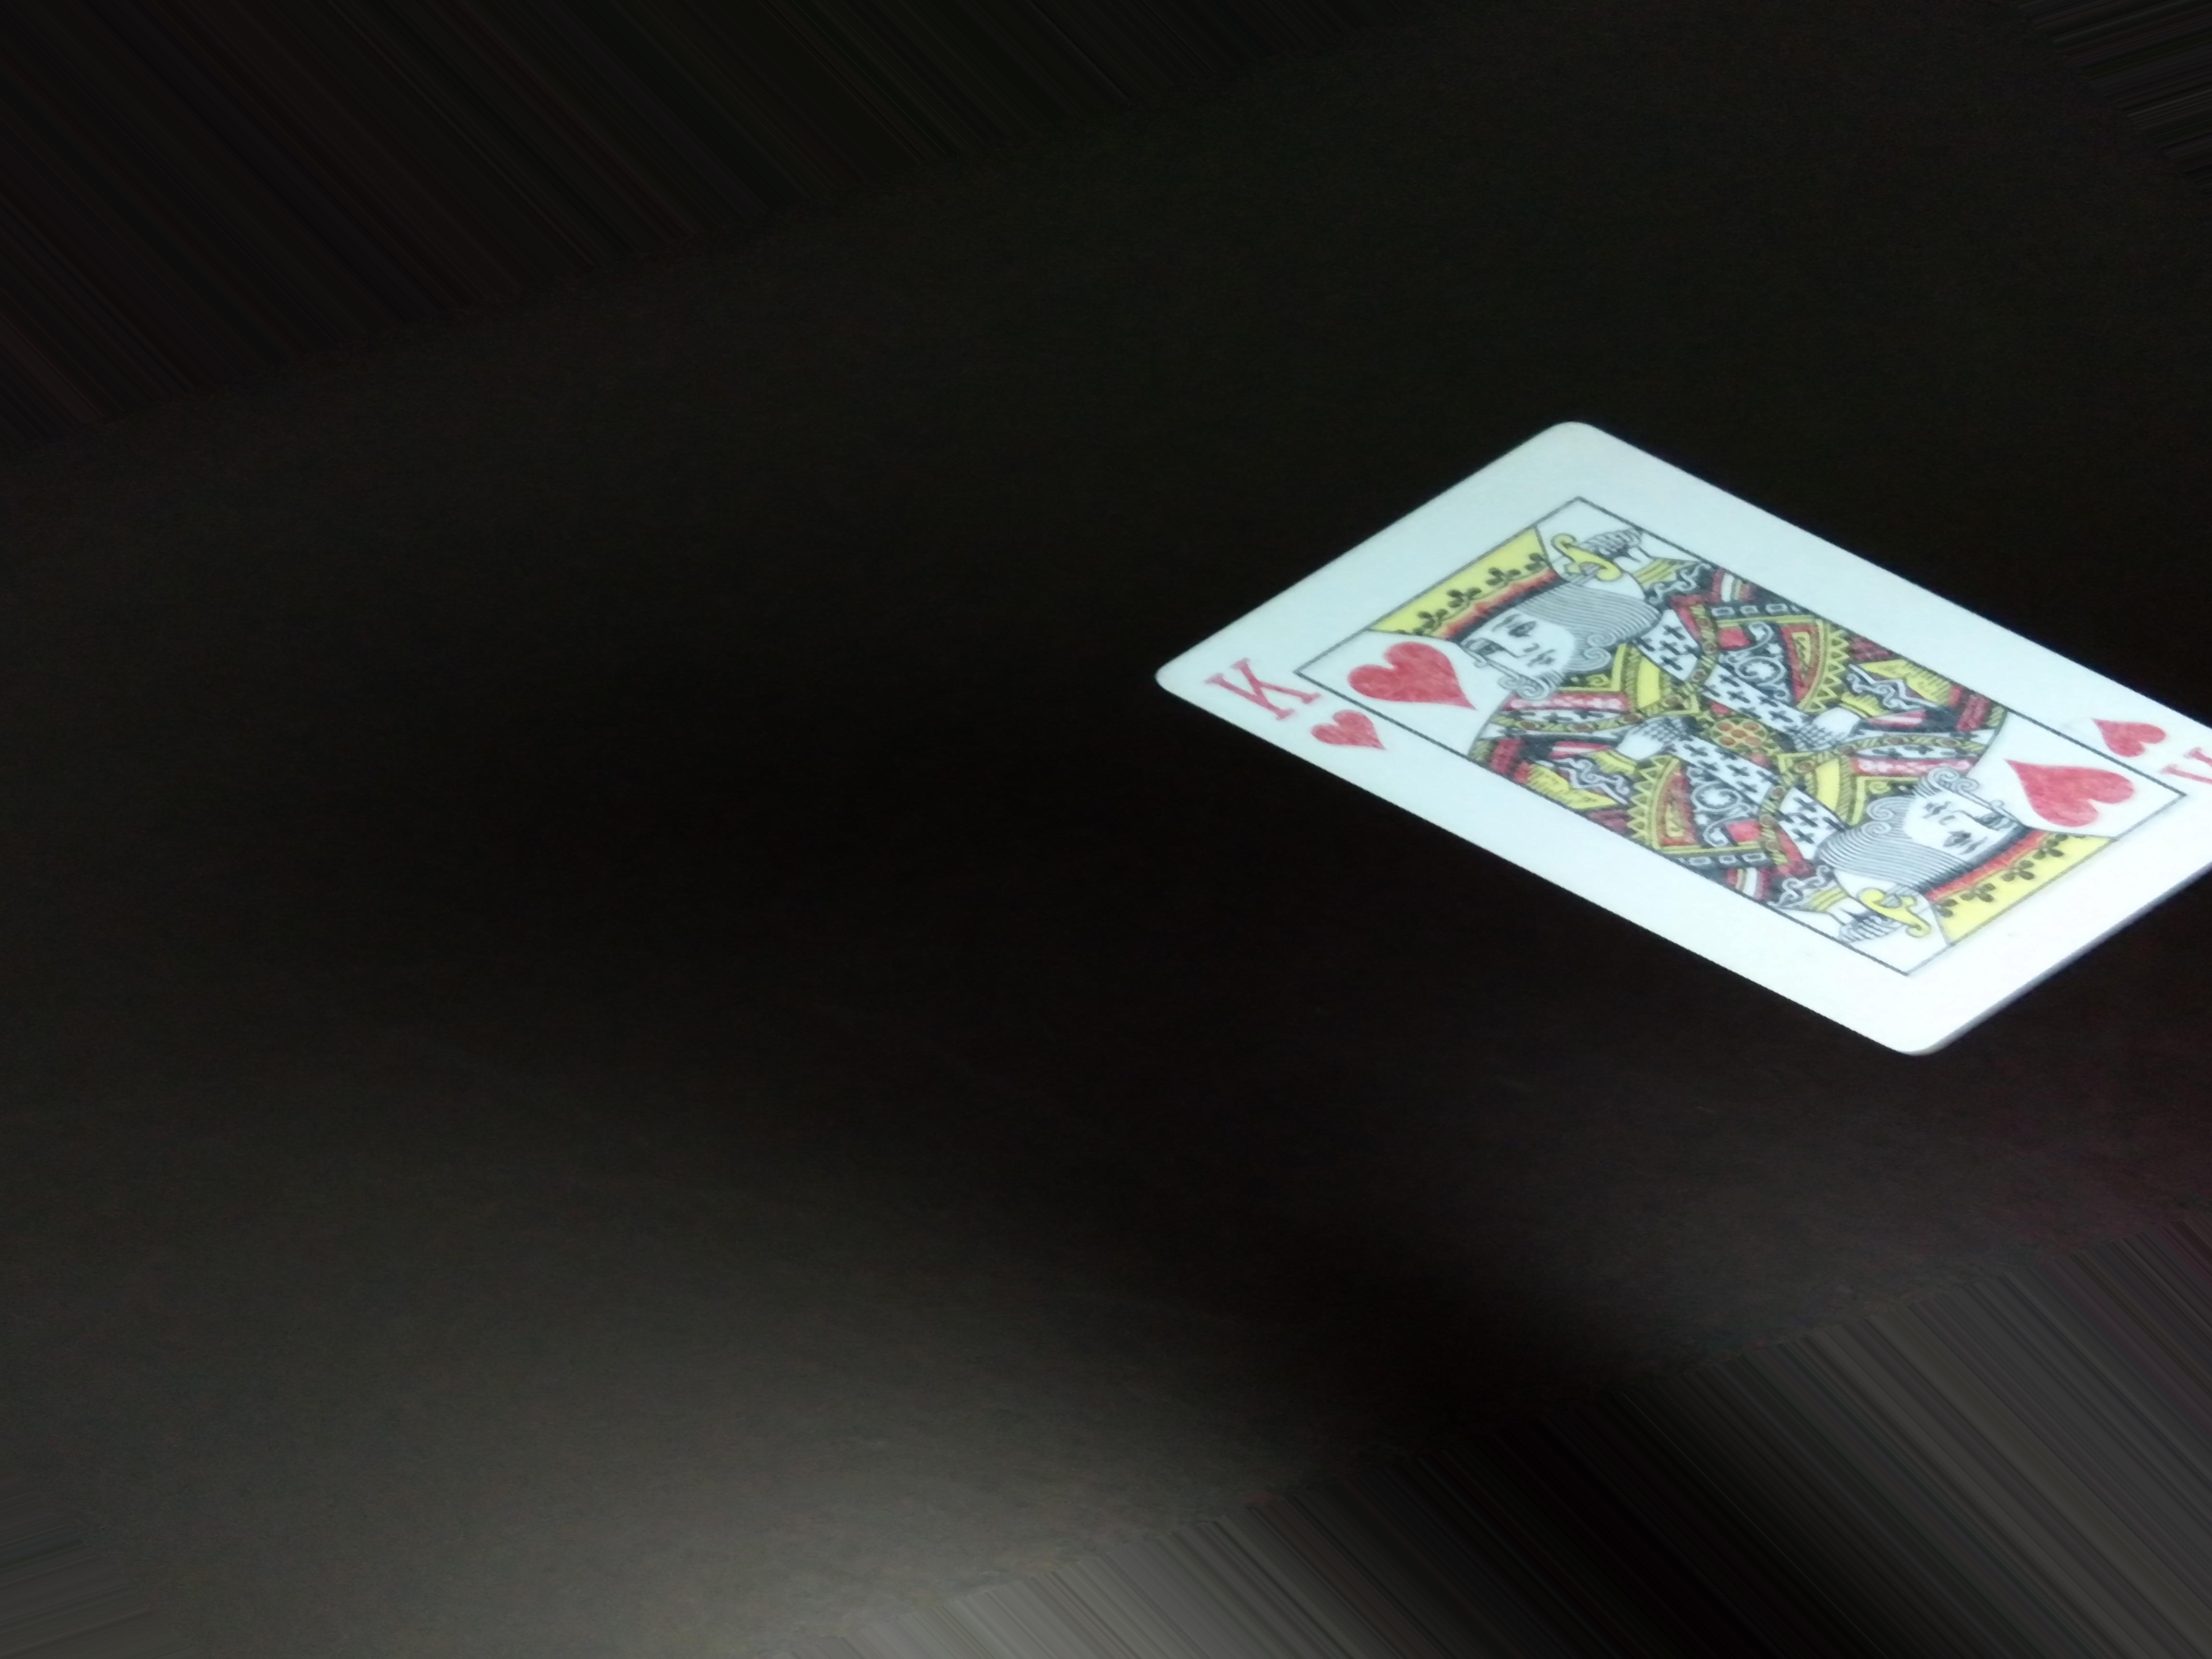KH: (1204, 657, 1386, 755)
